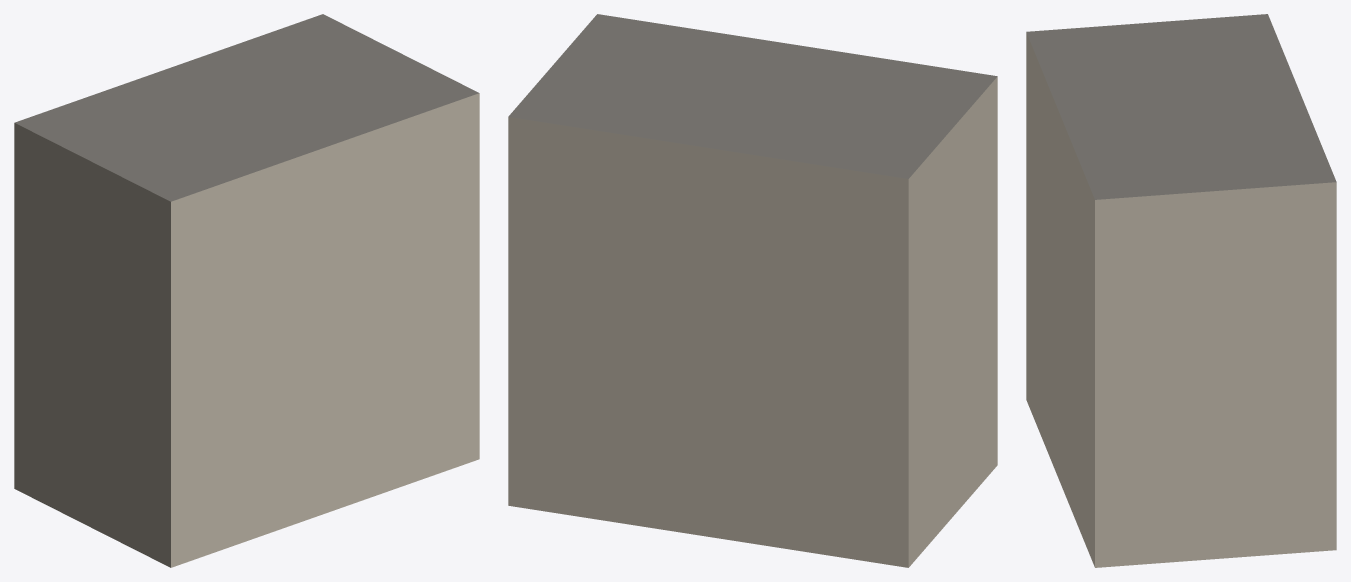
3 views of the same model, side by side, from view 1: azimuth 30°, elevation 25°; view 2: azimuth 150°, elevation 25°; view 3: azimuth 270°, elevation 25° (orthographic). The views are drawn at different scales.
Visible parts, largest first — view 1: HP-w859488910; view 2: HP-w859488910; view 3: HP-w859488910.
Boxes of the visible parts, x1,y1,x2,y2 form: HP-w859488910: [14, 14, 479, 567]; HP-w859488910: [508, 14, 997, 567]; HP-w859488910: [1026, 14, 1336, 567].
Size of the model in its own units: 19.5 by 18 by 13.76.
